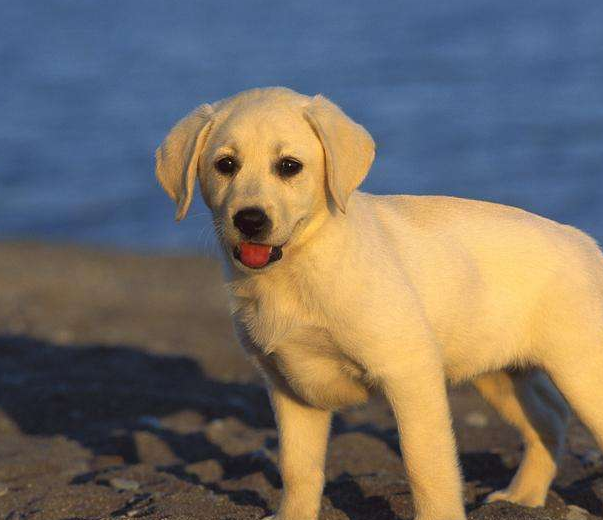nose: (228, 202, 280, 242)
